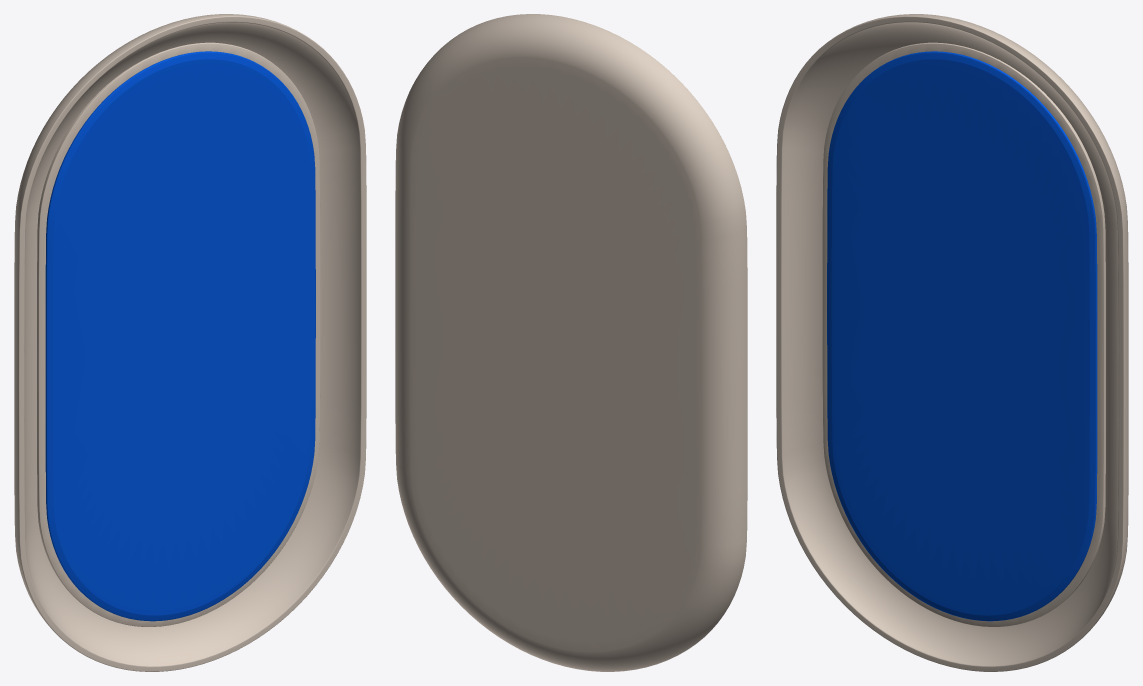
The model's file is Stone-M.glb.
3 views of the same model, side by side, from view 1: azimuth 30°, elevation 25°; view 2: azimuth 150°, elevation 25°; view 3: azimuth 330°, elevation 25° (orthographic).
Visible parts, largest first — view 1: Stone_M, Stone, Led.001; view 2: Stone; view 3: Stone_M, Stone, Led.001.
Part boxes in pixels (<box>): Stone_M: <box>45,51,315,621</box>; Stone: <box>14,14,366,671</box>; Led.001: <box>37,42,320,626</box>; Stone: <box>395,14,747,671</box>; Stone_M: <box>827,51,1097,621</box>; Stone: <box>776,14,1128,671</box>; Led.001: <box>822,42,1105,626</box>.
Bounding box in the file's own units: 0.6196 × 1.1 × 0.0554.
